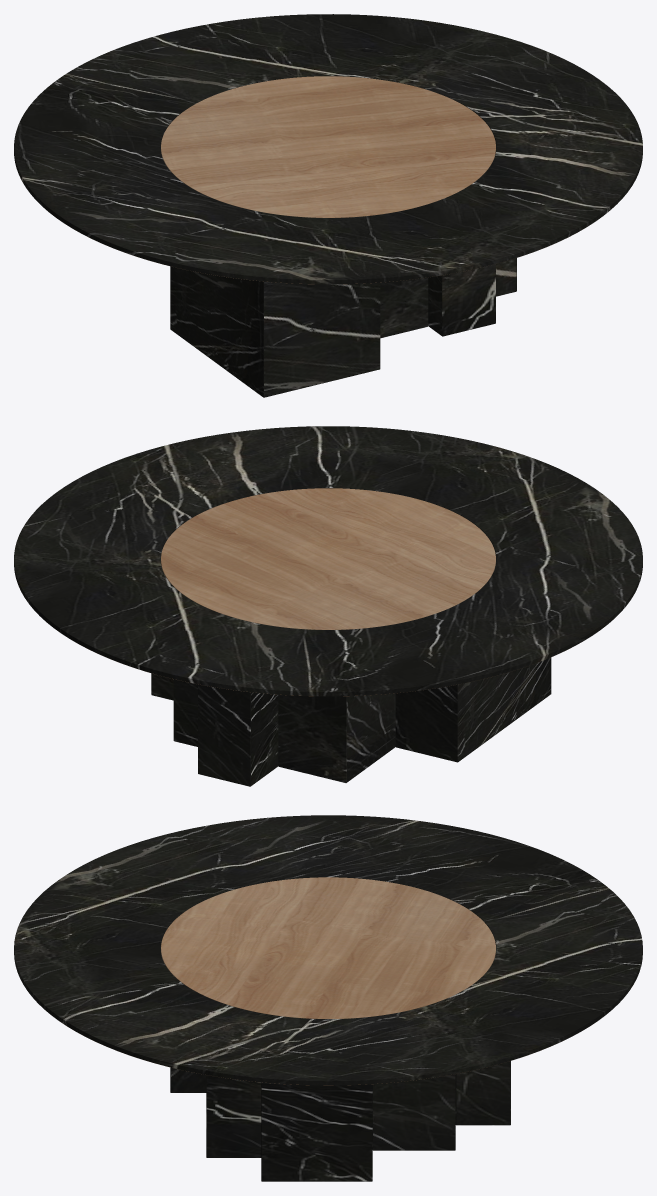
Rendered from table_mr_ft.glb.
3 views of the same model, one above another, from view 1: azimuth 30°, elevation 25°; view 2: azimuth 150°, elevation 25°; view 3: azimuth 270°, elevation 25° (orthographic).
Parts seen in each view (by area): view 1: Table_mr_ft_0; view 2: Table_mr_ft_0; view 3: Table_mr_ft_0.
Boxes of the visible parts, bbox=[...] form: Table_mr_ft_0: bbox=[14, 14, 642, 397]; Table_mr_ft_0: bbox=[14, 426, 642, 786]; Table_mr_ft_0: bbox=[14, 815, 642, 1181].
Bounding box in the file's own units: 2.6 × 0.721 × 2.6.
Materials: 1 (1 with a texture image).
